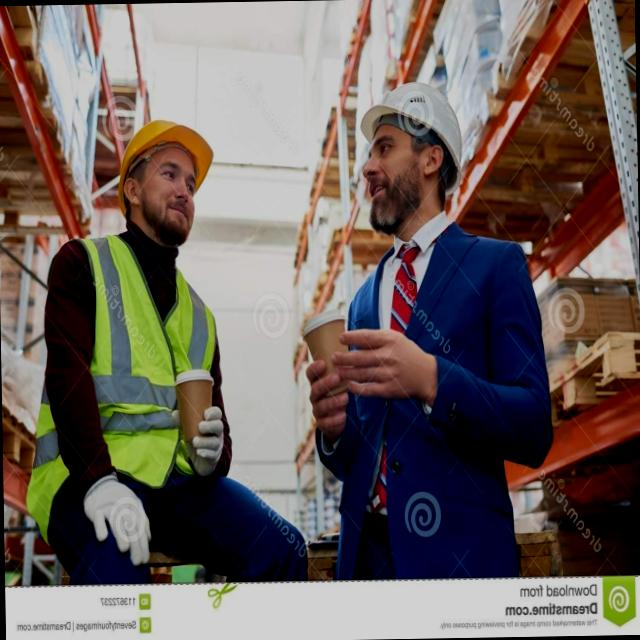helmet: (359, 74, 462, 199), (114, 116, 218, 217)
no-vest: (342, 221, 536, 553)
vest: (82, 216, 224, 505)
